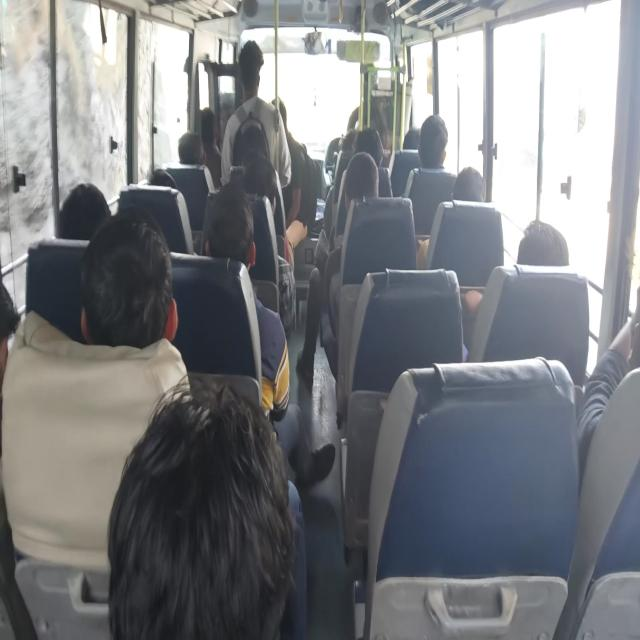person: (92, 392, 262, 611), (572, 292, 640, 540), (255, 108, 308, 302), (90, 202, 154, 337), (63, 180, 118, 248), (0, 268, 26, 392), (236, 38, 273, 118), (203, 192, 247, 257), (184, 109, 234, 161), (341, 160, 384, 218), (451, 163, 486, 227), (509, 214, 546, 274), (338, 125, 377, 172), (148, 164, 187, 210), (236, 153, 274, 196), (420, 111, 448, 163), (400, 129, 430, 169), (242, 122, 272, 161), (166, 137, 203, 164), (355, 127, 373, 160)
